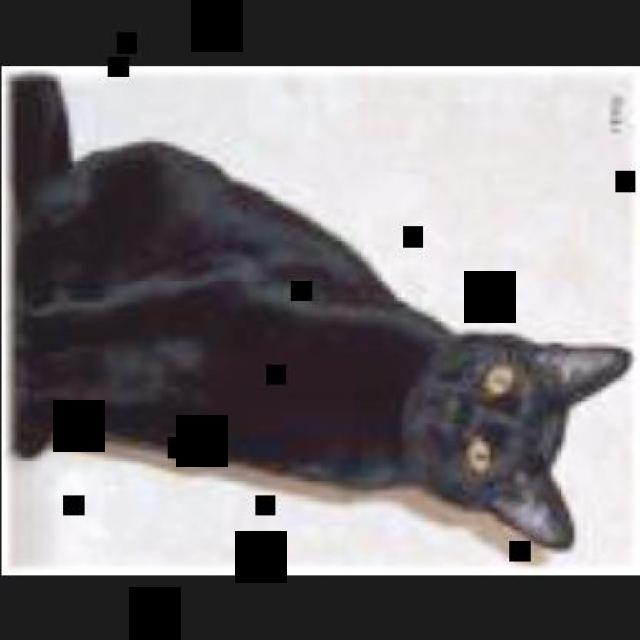unauthorized: (11, 78, 632, 551)
